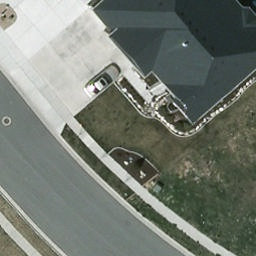car: (85, 66, 118, 98)
